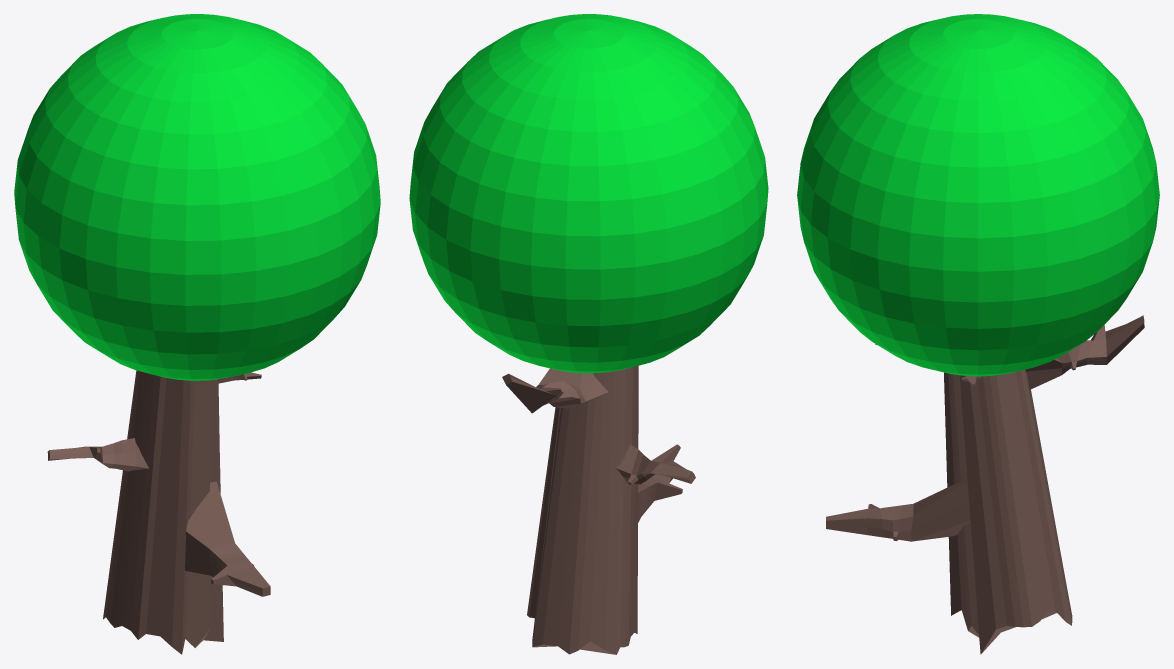
File: boom.glb
The picture shows the model from 3 angles, left to right: view 1: azimuth 30°, elevation 25°; view 2: azimuth 150°, elevation 25°; view 3: azimuth 270°, elevation 25°; orthographic projection. The views are drawn at different scales.
Parts seen in each view (by area): view 1: Sphere, Cylinder, Cube, Cube.001; view 2: Sphere, Cylinder, Cube.002, Cube.001, Cube; view 3: Sphere, Cylinder, Cube, Cube.002.
Boxes of the visible parts, box(x1,y1,x2,y2) form: Sphere: box(14, 14, 380, 380); Cylinder: box(103, 370, 223, 654); Cube: box(185, 481, 270, 596); Cube.001: box(47, 438, 148, 471); Sphere: box(409, 14, 768, 373); Cylinder: box(527, 366, 638, 654); Cube.002: box(502, 368, 608, 413); Cube.001: box(615, 444, 695, 484); Cube: box(638, 474, 682, 522); Sphere: box(797, 14, 1159, 376); Cylinder: box(944, 369, 1072, 654); Cube: box(826, 479, 969, 541); Cube.002: box(1025, 315, 1144, 389).
Bounding box in the file's own units: 14.53 × 26.99 × 14.53.
